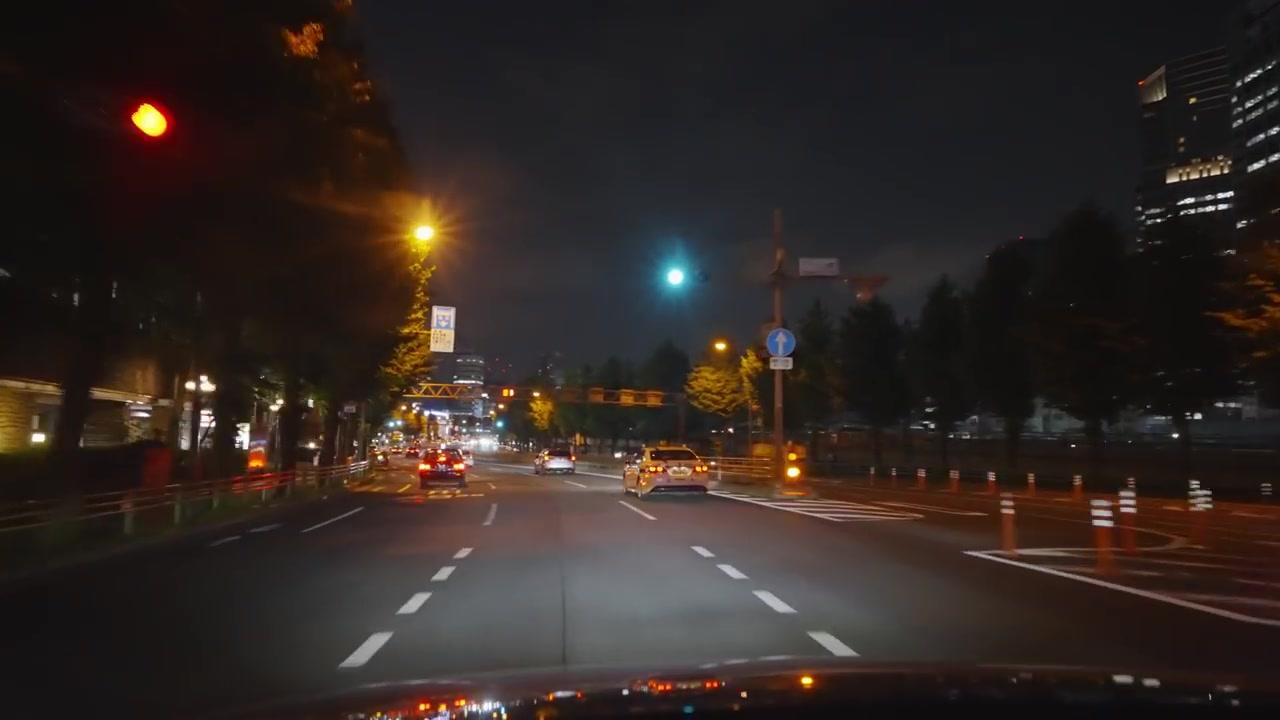car: (624, 444, 712, 497), (419, 449, 468, 489), (535, 449, 576, 475)
traffic light: (127, 98, 175, 144), (663, 264, 687, 291)
